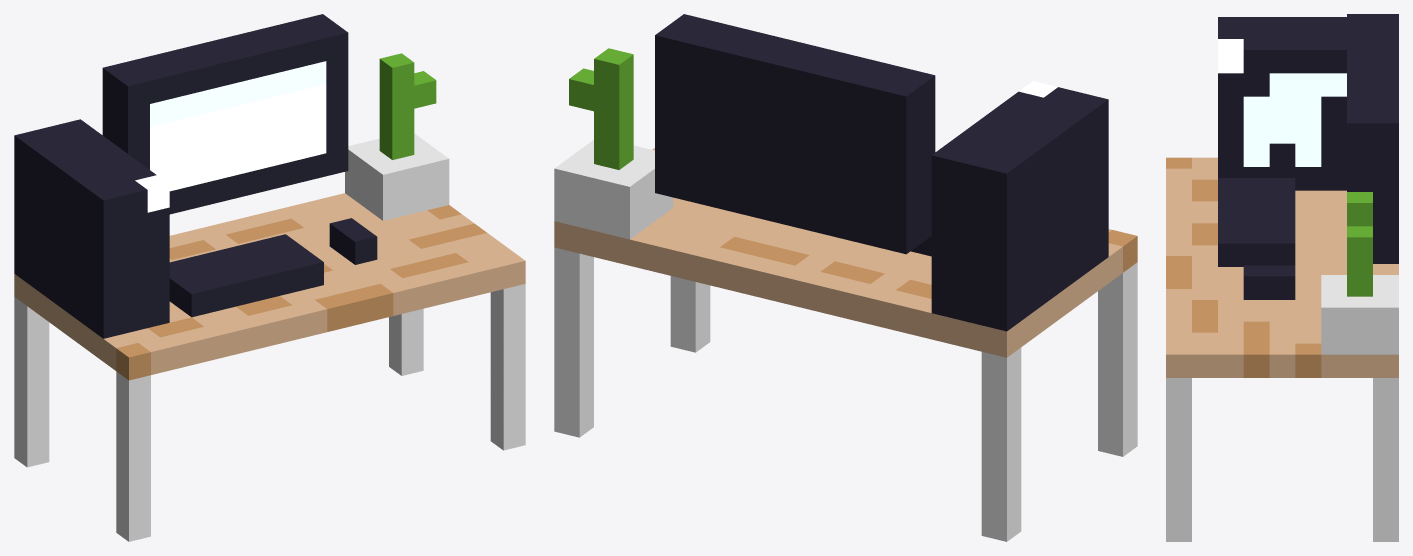
File: desk.gltf
3 views of the same model, side by side, from view 1: azimuth 30°, elevation 25°; view 2: azimuth 150°, elevation 25°; view 3: azimuth 270°, elevation 25° (orthographic). The views are drawn at different scales.
Size of the model in its own units: 18 by 16 by 9.
Materials: 2 (2 with a texture image).
